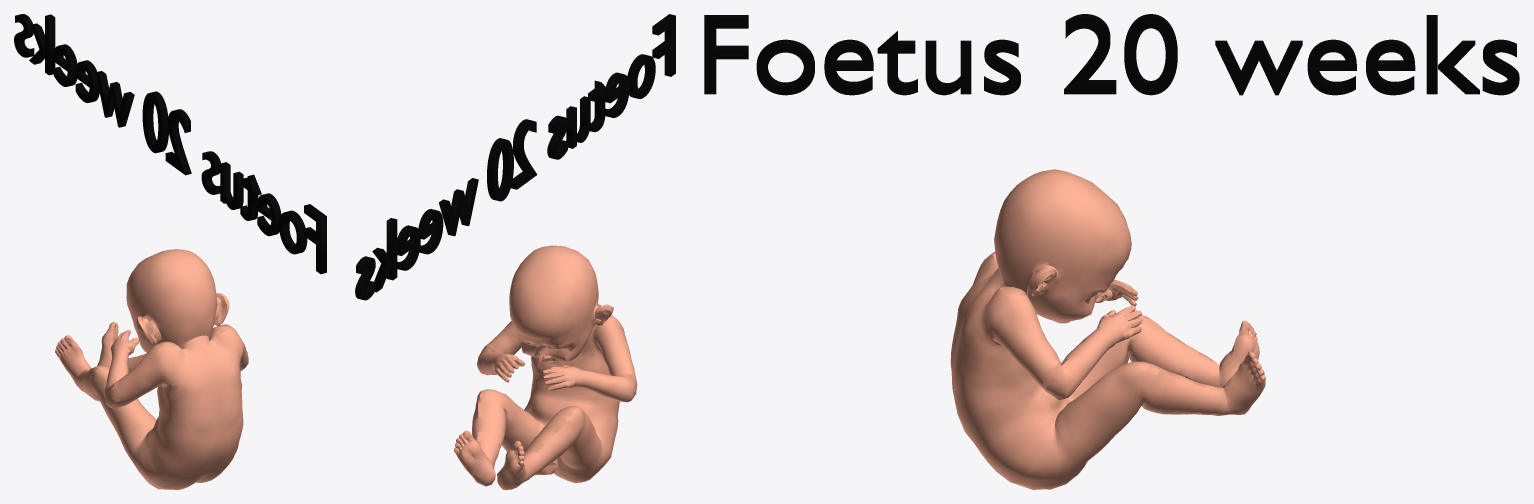
Rendered from (8)foutes 20 weeks.gltf.
The picture shows the model from 3 angles, left to right: view 1: azimuth 30°, elevation 25°; view 2: azimuth 150°, elevation 25°; view 3: azimuth 270°, elevation 25°; orthographic projection. The views are drawn at different scales.
Visible parts, largest first — view 1: Mesh (2)_SKIN_0, Text; view 2: Mesh (2)_SKIN_0, Text; view 3: Mesh (2)_SKIN_0, Text.
Boxes of the visible parts, x1,y1,x2,y2 form: Mesh (2)_SKIN_0: [55, 249, 248, 489]; Text: [14, 14, 326, 274]; Mesh (2)_SKIN_0: [454, 245, 637, 489]; Text: [355, 14, 675, 300]; Mesh (2)_SKIN_0: [950, 169, 1265, 489]; Text: [704, 14, 1519, 95].
Size of the model in its own units: 1.25 by 2.9 by 4.54.
